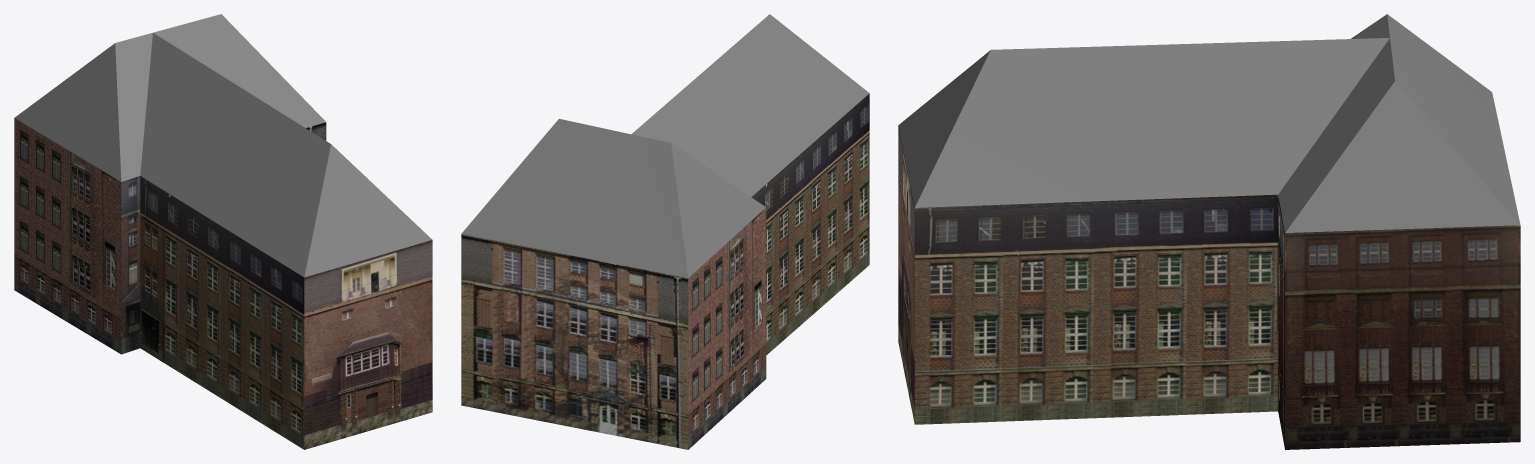
File: Mueller-Bau.gltf
3 views of the same model, side by side, from view 1: azimuth 30°, elevation 25°; view 2: azimuth 150°, elevation 25°; view 3: azimuth 270°, elevation 25° (orthographic). The views are drawn at different scales.
Parts seen in each view (by area): view 1: Dach.1; view 2: Dach.1; view 3: Dach.1.
Part boxes in pixels (x1=…): Dach.1: x1=14, y1=14, x2=432, y2=449; Dach.1: x1=461, y1=14, x2=869, y2=449; Dach.1: x1=898, y1=14, x2=1520, y2=449.
Size of the model in its own units: 22.81 by 25 by 42.55.
9 materials, 8 textured.
